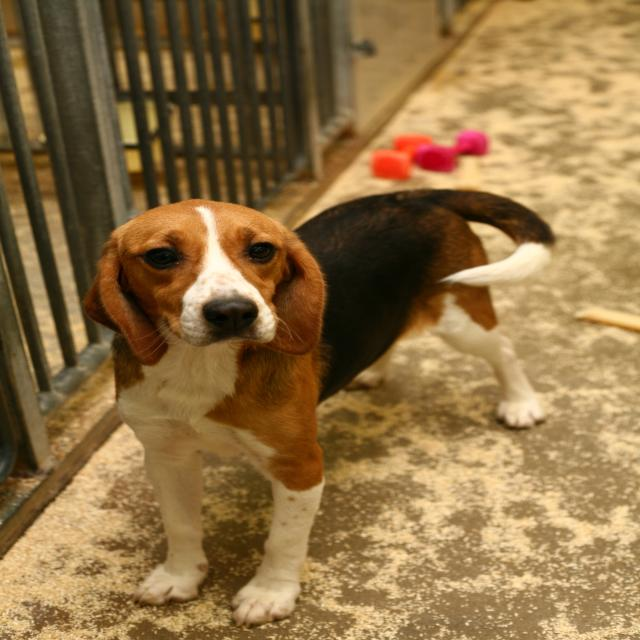dog: (26, 156, 407, 398)
